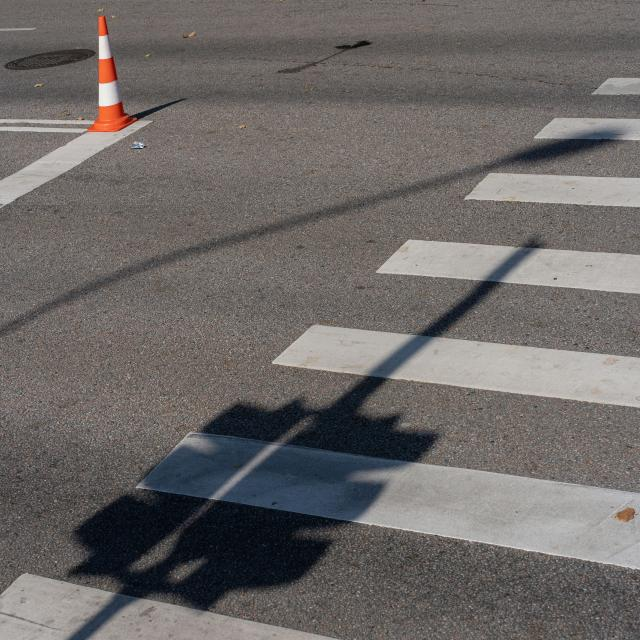Traffic Cone: (63, 0, 146, 160)
